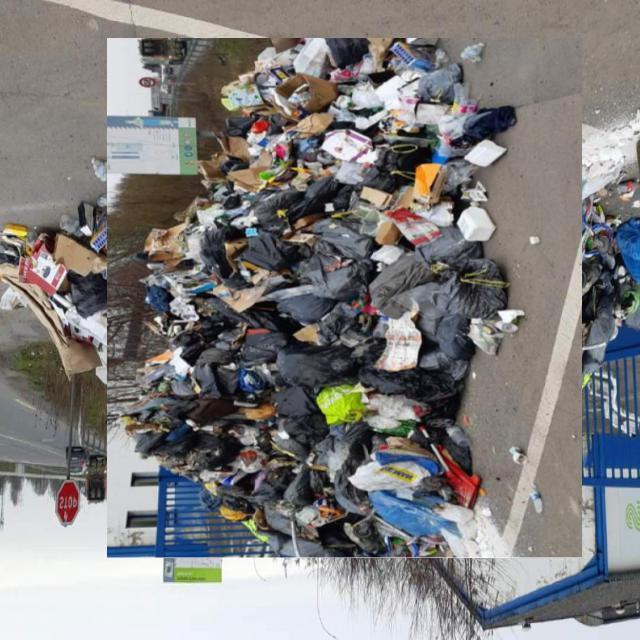Trashbag: (435, 250, 515, 328), (196, 213, 248, 285), (240, 229, 310, 279), (277, 343, 356, 387), (364, 367, 456, 402), (318, 422, 374, 479), (275, 290, 338, 336), (266, 414, 316, 464), (255, 185, 302, 234), (287, 458, 323, 510), (244, 466, 291, 502), (274, 381, 312, 421)
